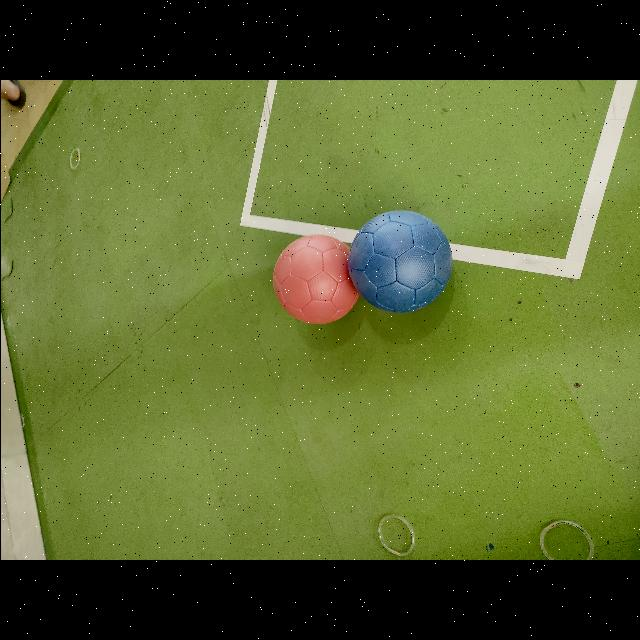B: (348, 211, 450, 313)
R: (272, 234, 358, 324)
